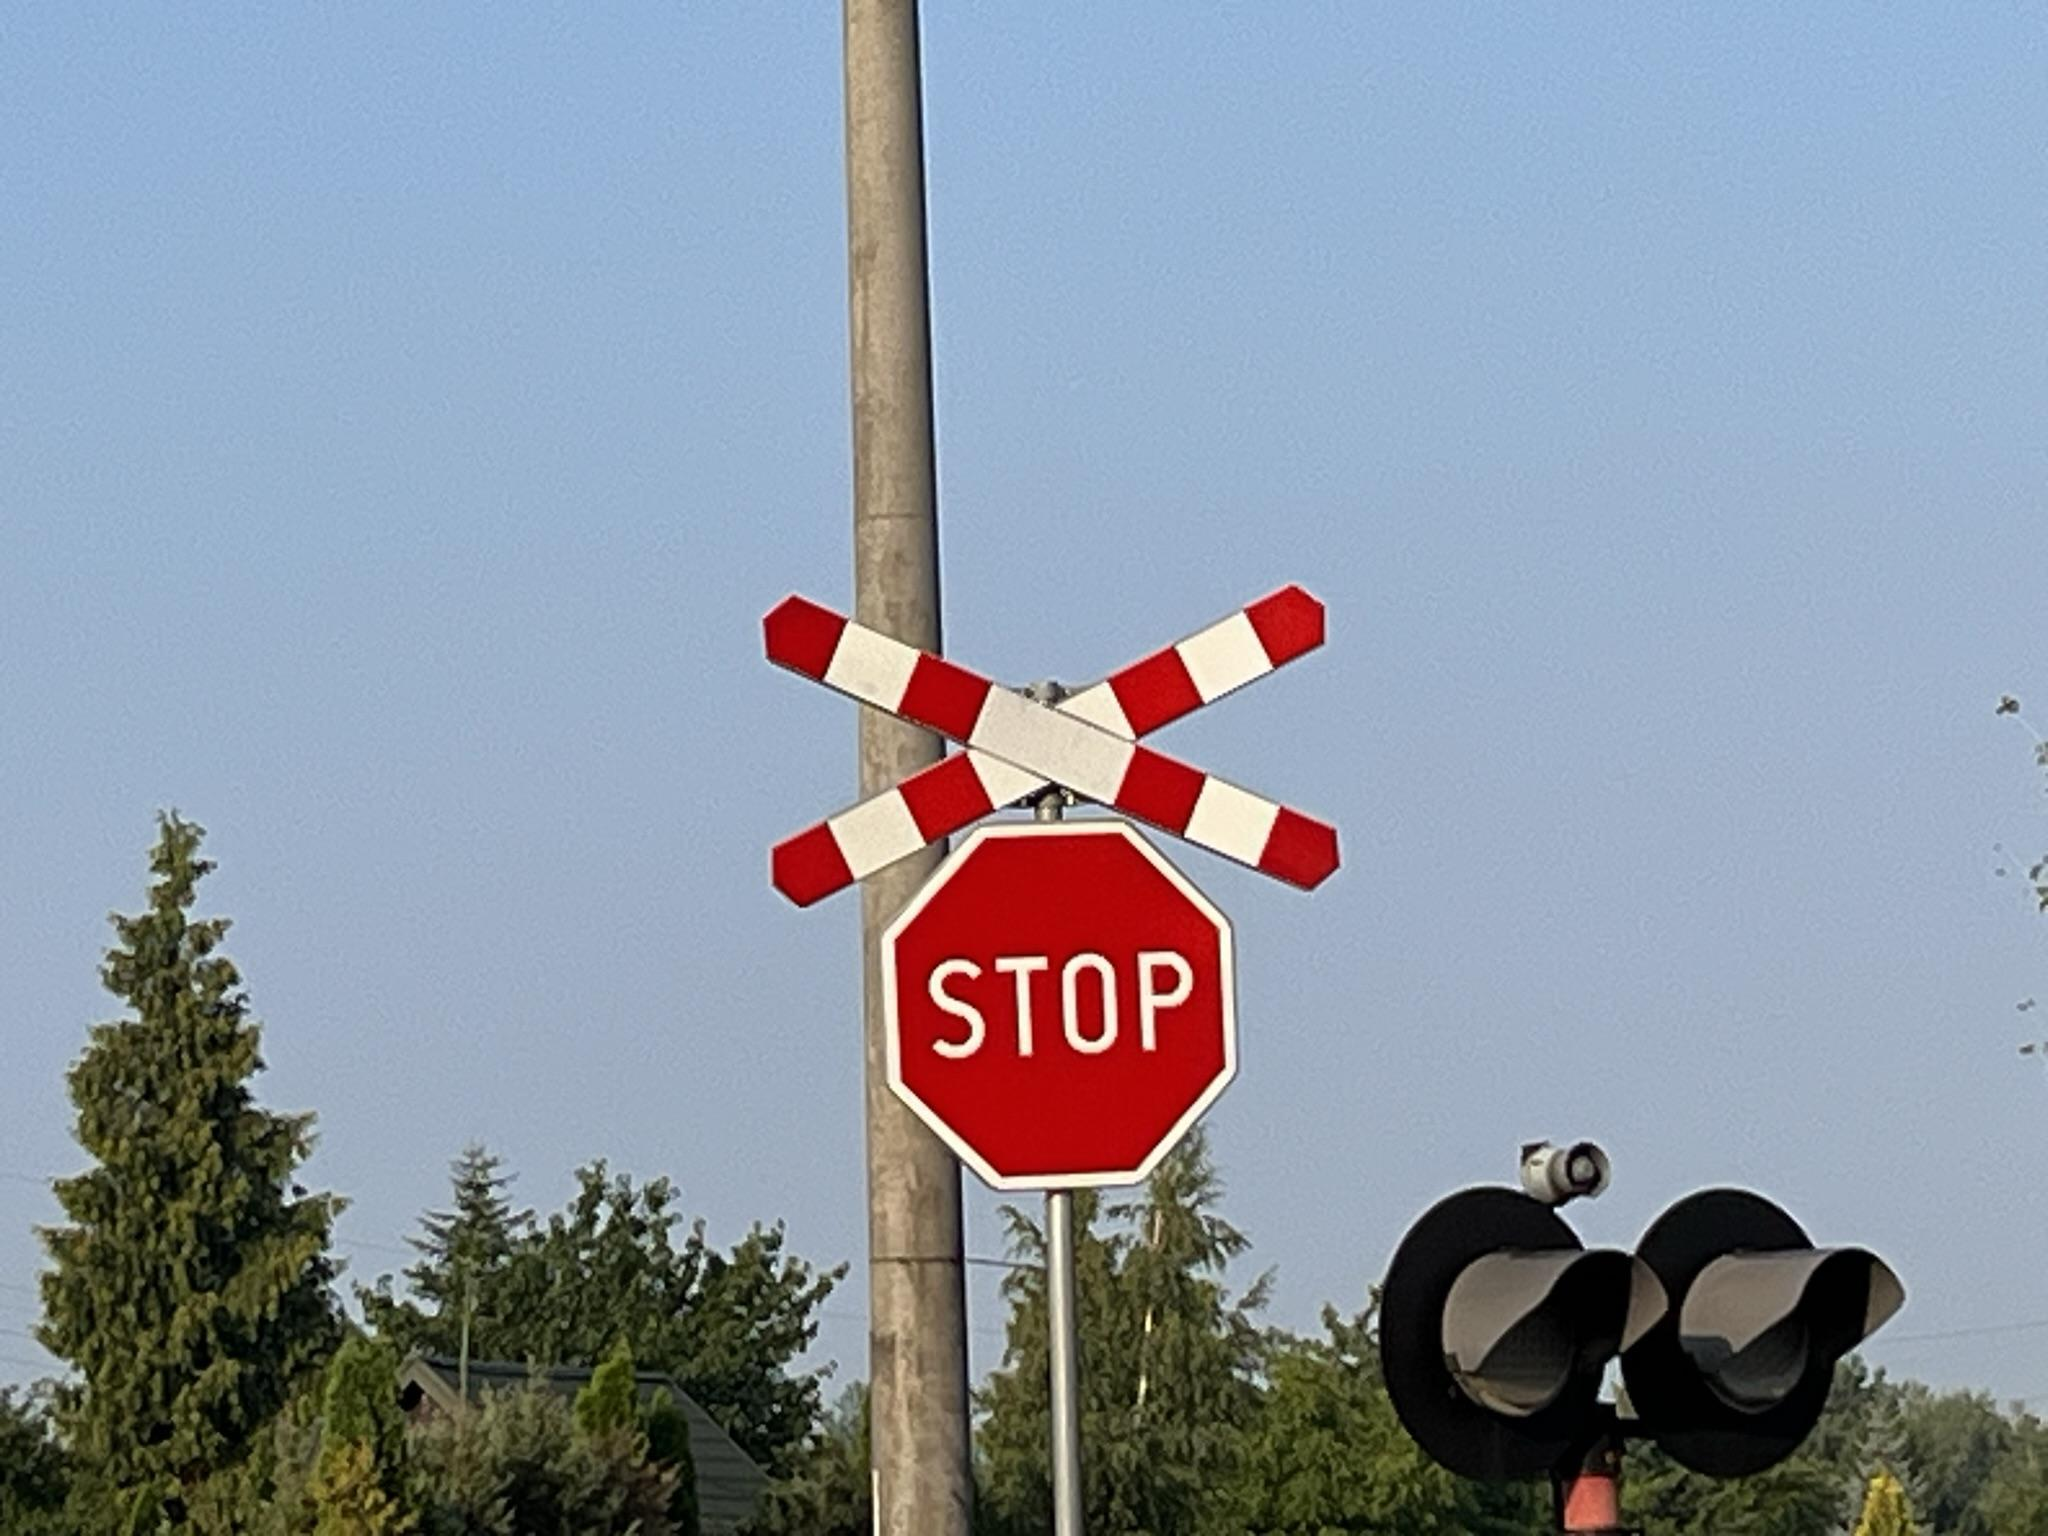prohibitory: (884, 818, 1240, 1197)
